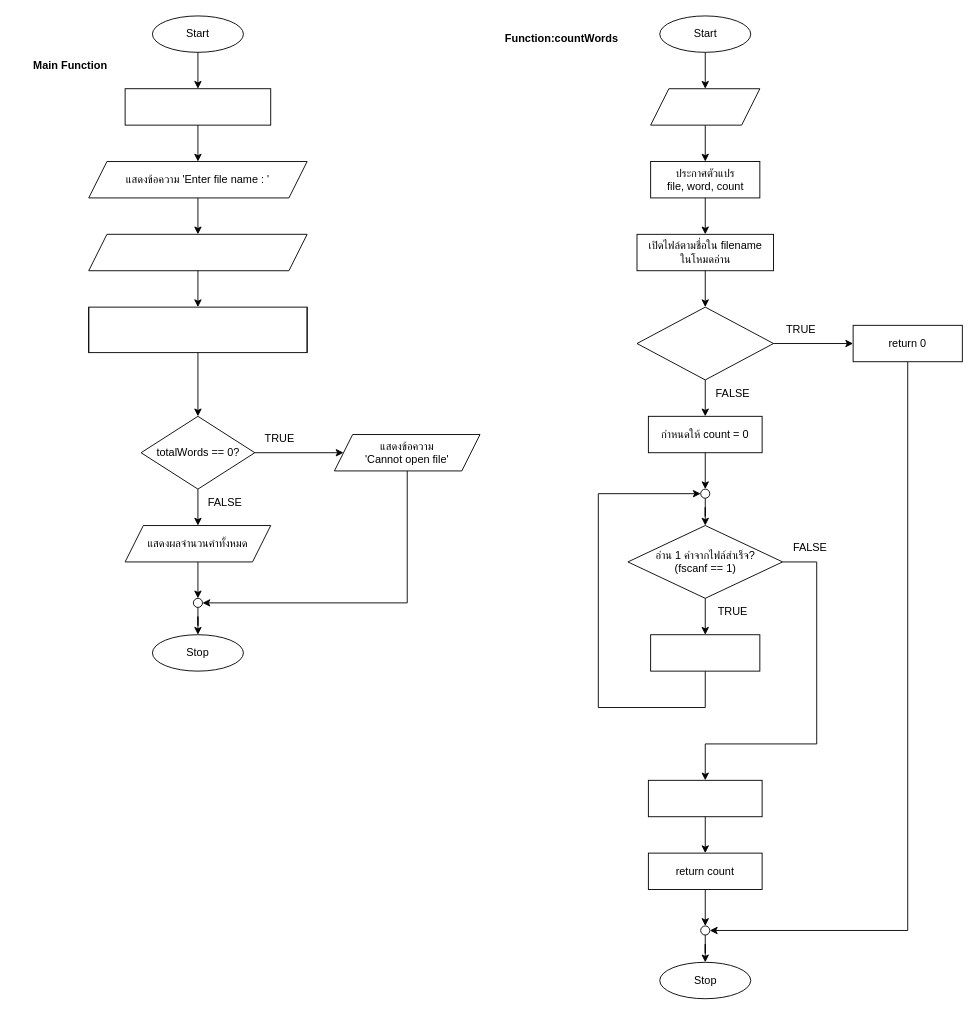
This 978x1015 diagram has some shape labels left out. The shapes that lost their labels are listed below. From the top down, each one's box as (x1, y1, x2, y2) in pixels, then its label:
(124, 88, 271, 125): ประกาศตัวแปร filename, totalWords
(650, 88, 760, 125): รับค่า filename
(88, 233, 307, 271): รับชื่อไฟล์เก็บในตัวแปร filename
(88, 306, 307, 353): เรียกใช้ฟังก์ชันcountWords(filename) ผลลัพธ์เก็บใน totalWords
(636, 306, 774, 380): เปิดไฟล์ไม่สำเร็จ? (file == 0)
(650, 634, 760, 671): เพิ่มค่า count +1
(647, 779, 762, 817): ปิดไฟล์
